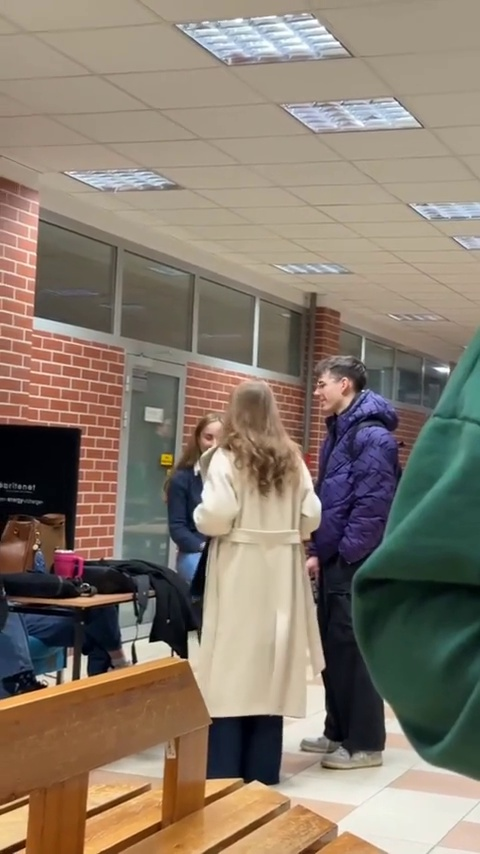no vest: (194, 371, 319, 727), (312, 356, 419, 731)
